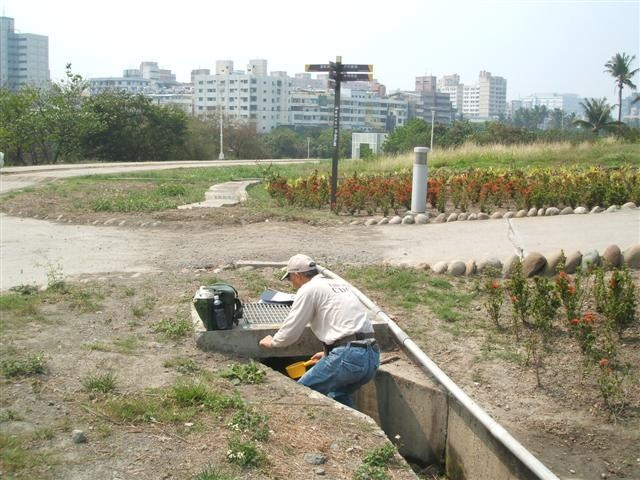bowl: (284, 358, 307, 380)
